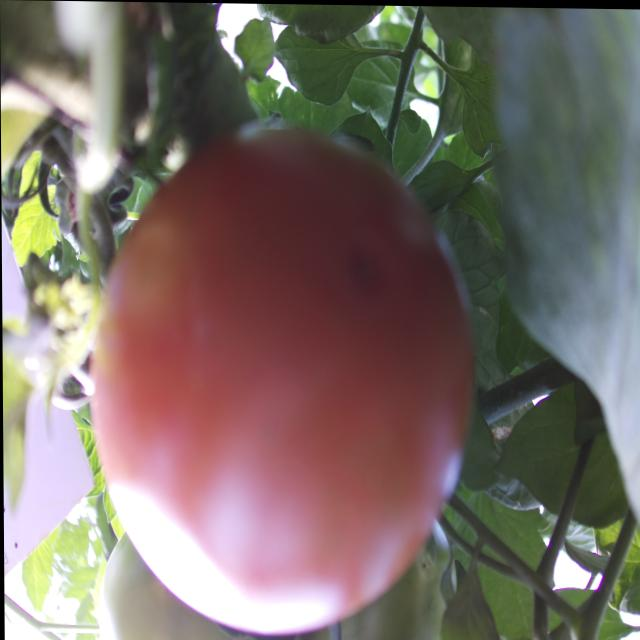kirmizi: (60, 26, 480, 629)
